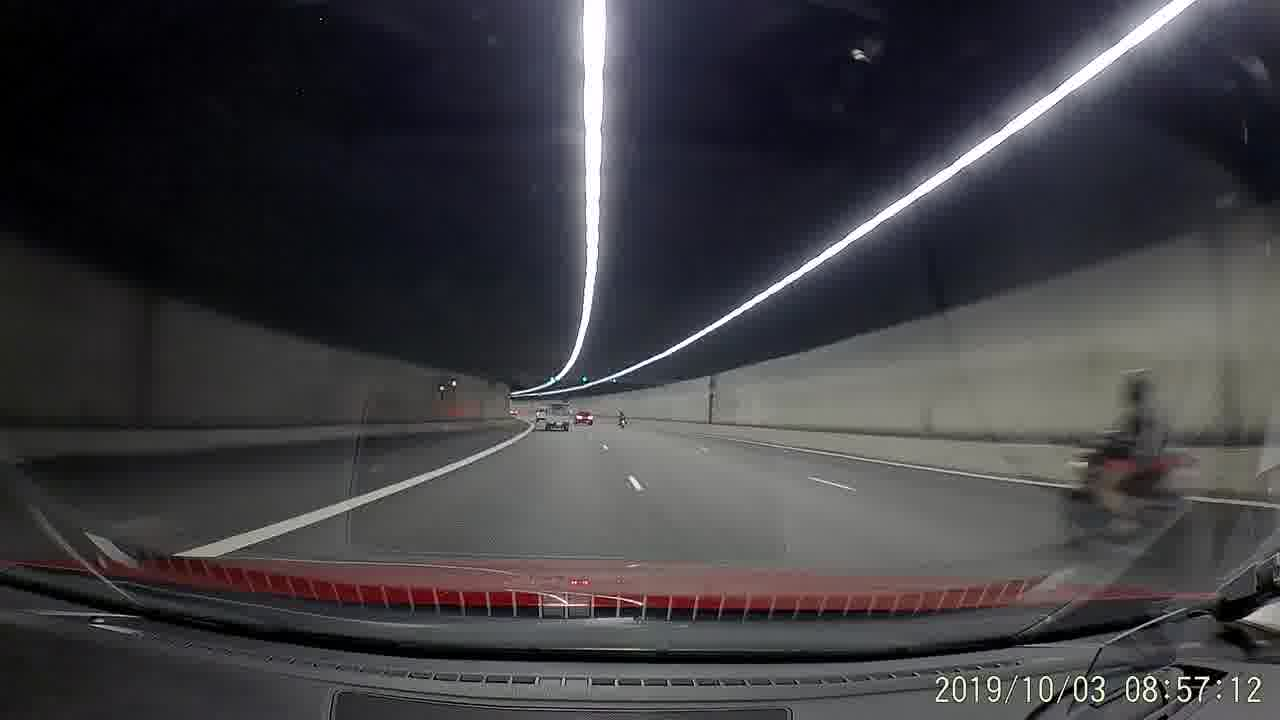car: (573, 410, 595, 428)
